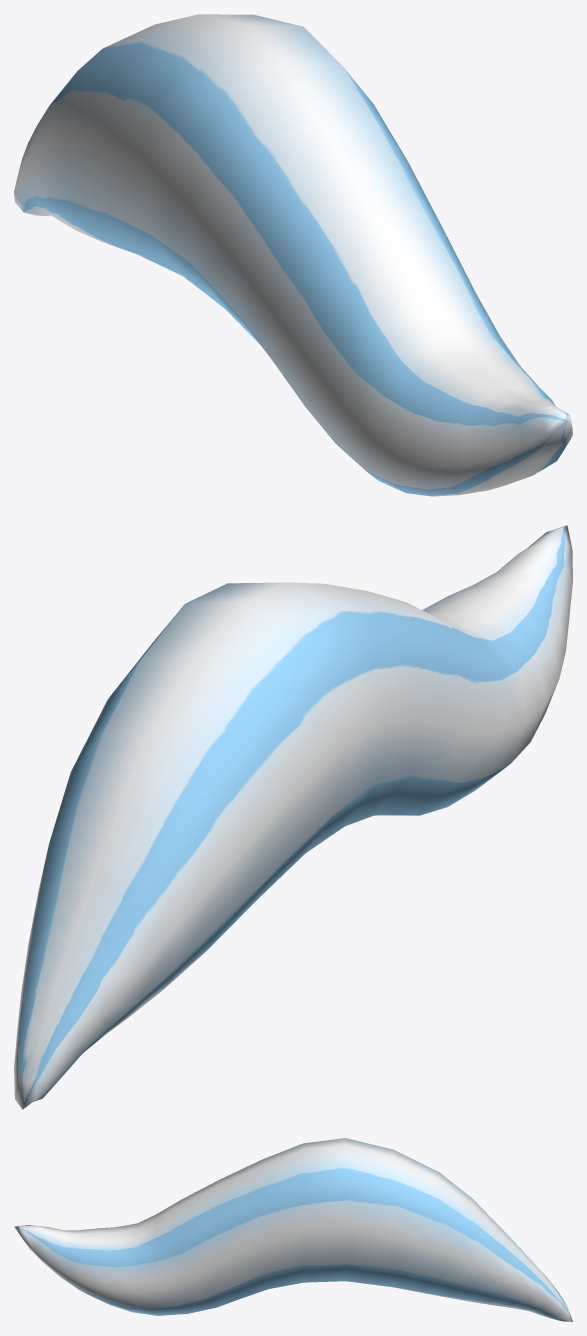
File: PASTE_TEST.fbx
3 views of the same model, one above another, from view 1: azimuth 30°, elevation 25°; view 2: azimuth 150°, elevation 25°; view 3: azimuth 270°, elevation 25° (orthographic). The views are drawn at different scales.
Parts seen in each view (by area): view 1: Paste; view 2: Paste; view 3: Paste.
Part boxes in pixels (bbox=[...]): Paste: bbox=[14, 14, 572, 496]; Paste: bbox=[14, 525, 572, 1109]; Paste: bbox=[14, 1138, 572, 1321].
Bounding box in the file's own units: 0.802 × 1.33 × 3.8.
